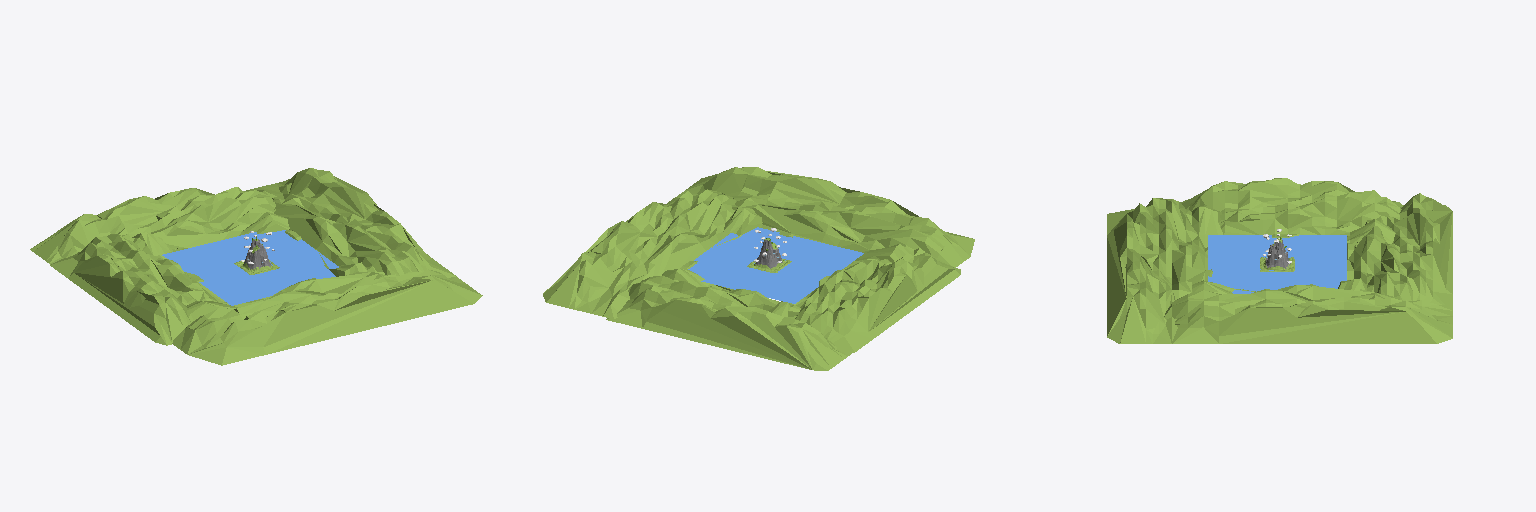
3 views of the same model, side by side, from view 1: azimuth 30°, elevation 25°; view 2: azimuth 150°, elevation 25°; view 3: azimuth 270°, elevation 25° (orthographic).
Size of the model in its own units: 1023 by 148 by 1045.
2 materials, 1 textured.